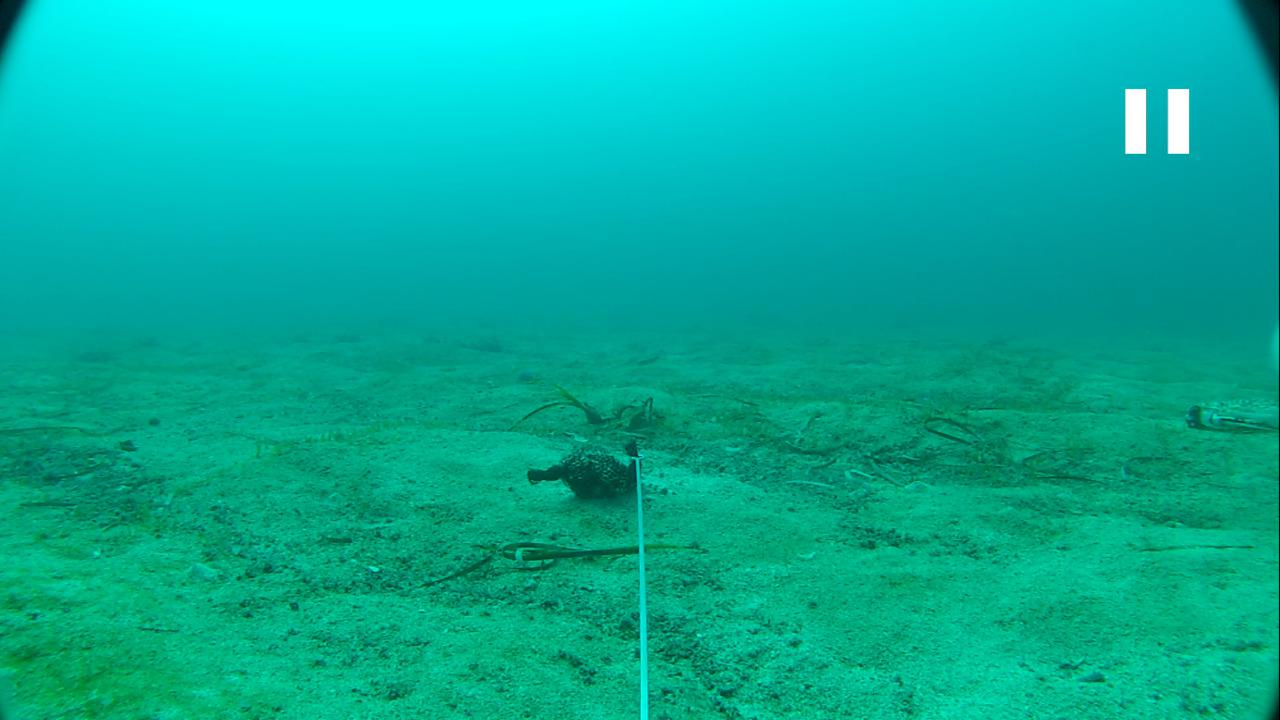dactylopterus: (1181, 388, 1276, 443)
